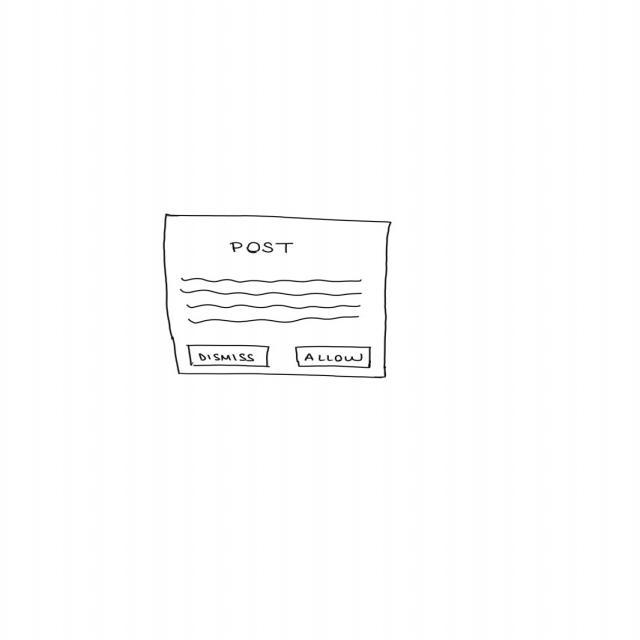button: (187, 344, 273, 370), (295, 346, 374, 371)
container: (161, 213, 396, 383)
label: (232, 241, 298, 258)
textbox: (181, 276, 365, 326)
